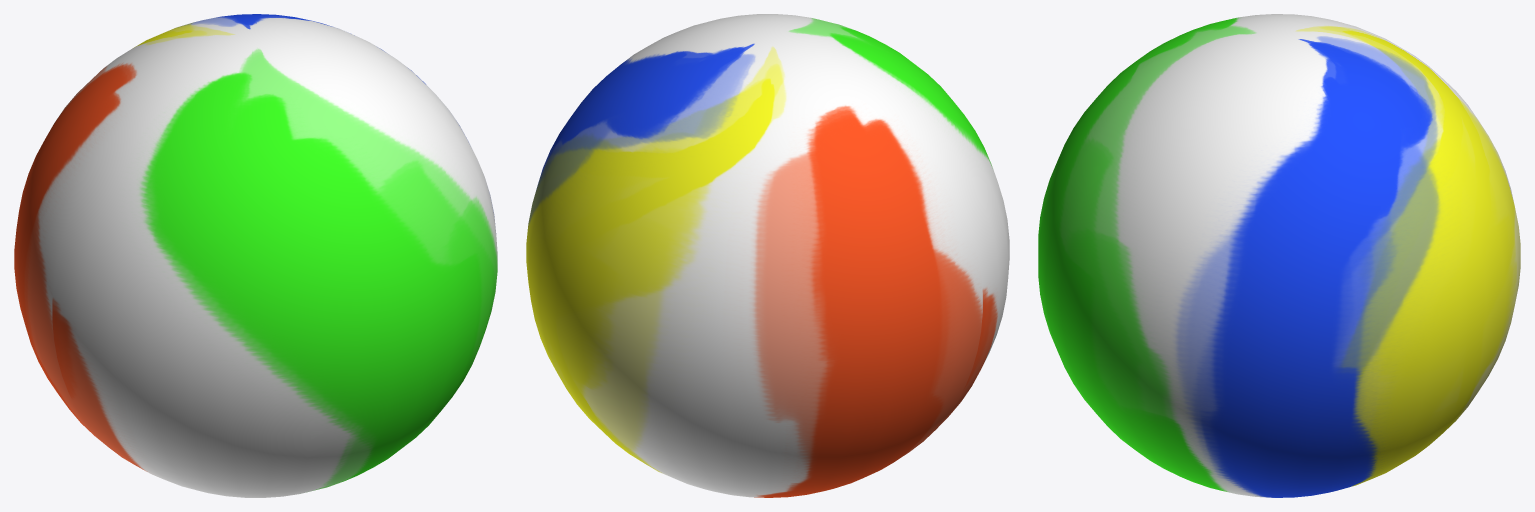
The model's file is Beachball_Marble.fbx.
3 renders of one model, left to right at view 1: azimuth 30°, elevation 25°; view 2: azimuth 150°, elevation 25°; view 3: azimuth 270°, elevation 25°, orthographic.
Visible parts, largest first — view 1: Beachball; view 2: Beachball; view 3: Beachball.
Part boxes in pixels (left/top/right/bottom): Beachball: left=14, top=14, right=497, bottom=497; Beachball: left=526, top=14, right=1009, bottom=497; Beachball: left=1038, top=14, right=1520, bottom=497.
Size of the model in its own units: 200 by 200 by 199.
Materials: 1 (1 with a texture image).
